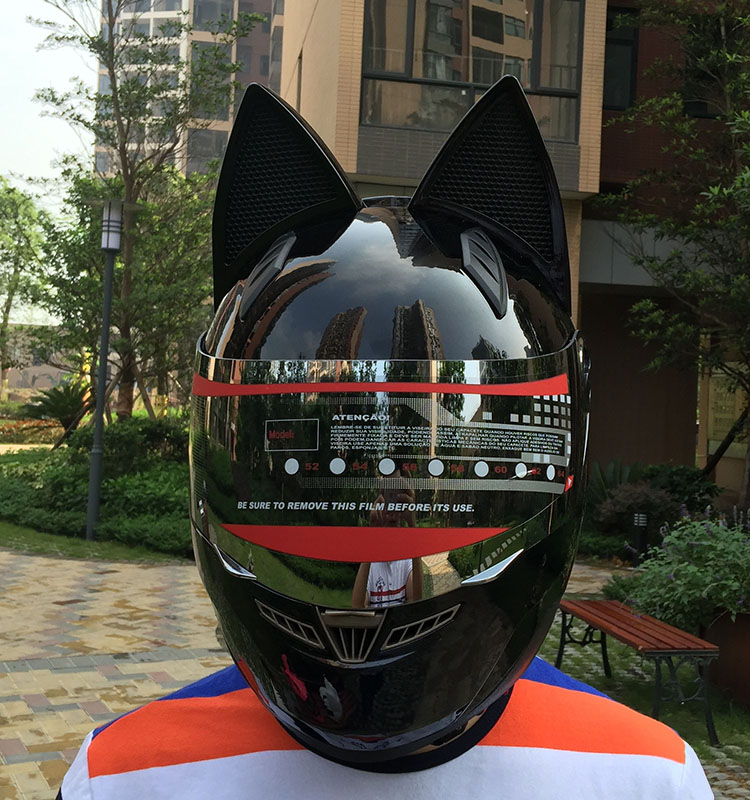helmet: (202, 176, 581, 743)
